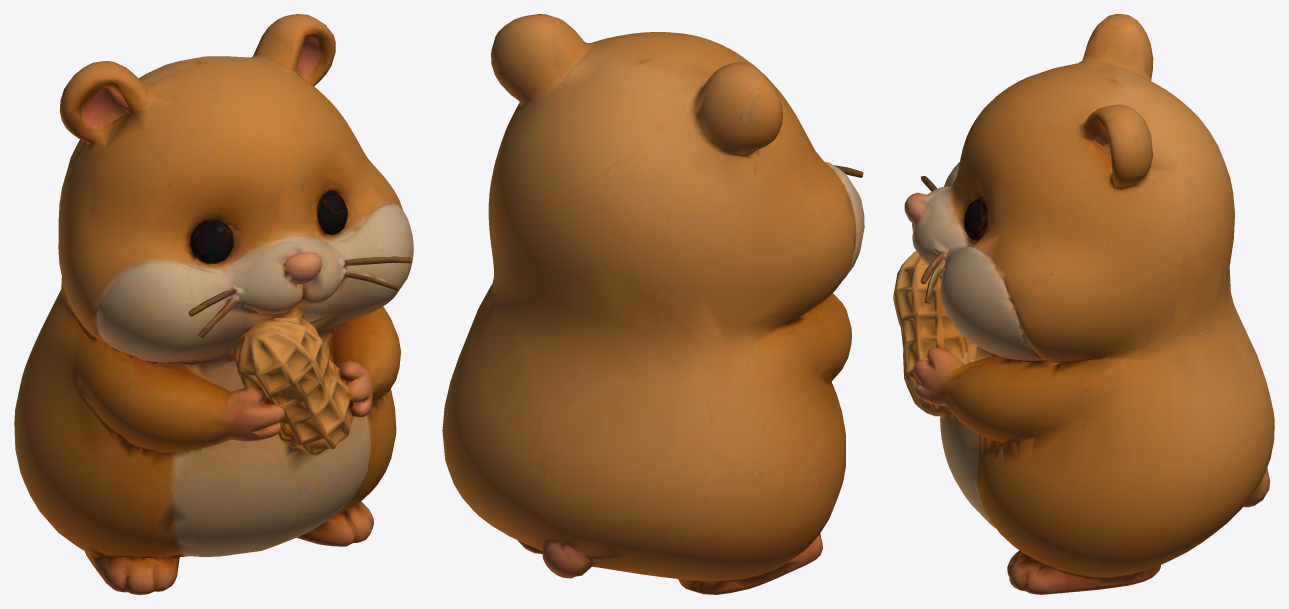
File: mouse.glb
The picture shows the model from 3 angles, left to right: view 1: azimuth 30°, elevation 25°; view 2: azimuth 150°, elevation 25°; view 3: azimuth 270°, elevation 25°; orthographic projection. The views are drawn at different scales.
Parts seen in each view (by area): view 1: texture_pbr_v128; view 2: texture_pbr_v128; view 3: texture_pbr_v128.
Boxes of the visible parts, box(x1,y1,x2,y2) form: texture_pbr_v128: box(14, 14, 413, 594); texture_pbr_v128: box(442, 14, 864, 594); texture_pbr_v128: box(893, 14, 1274, 594).
Bounding box in the file's own units: 0.7502 × 1.04 × 0.7628.
1 material, 1 textured.
